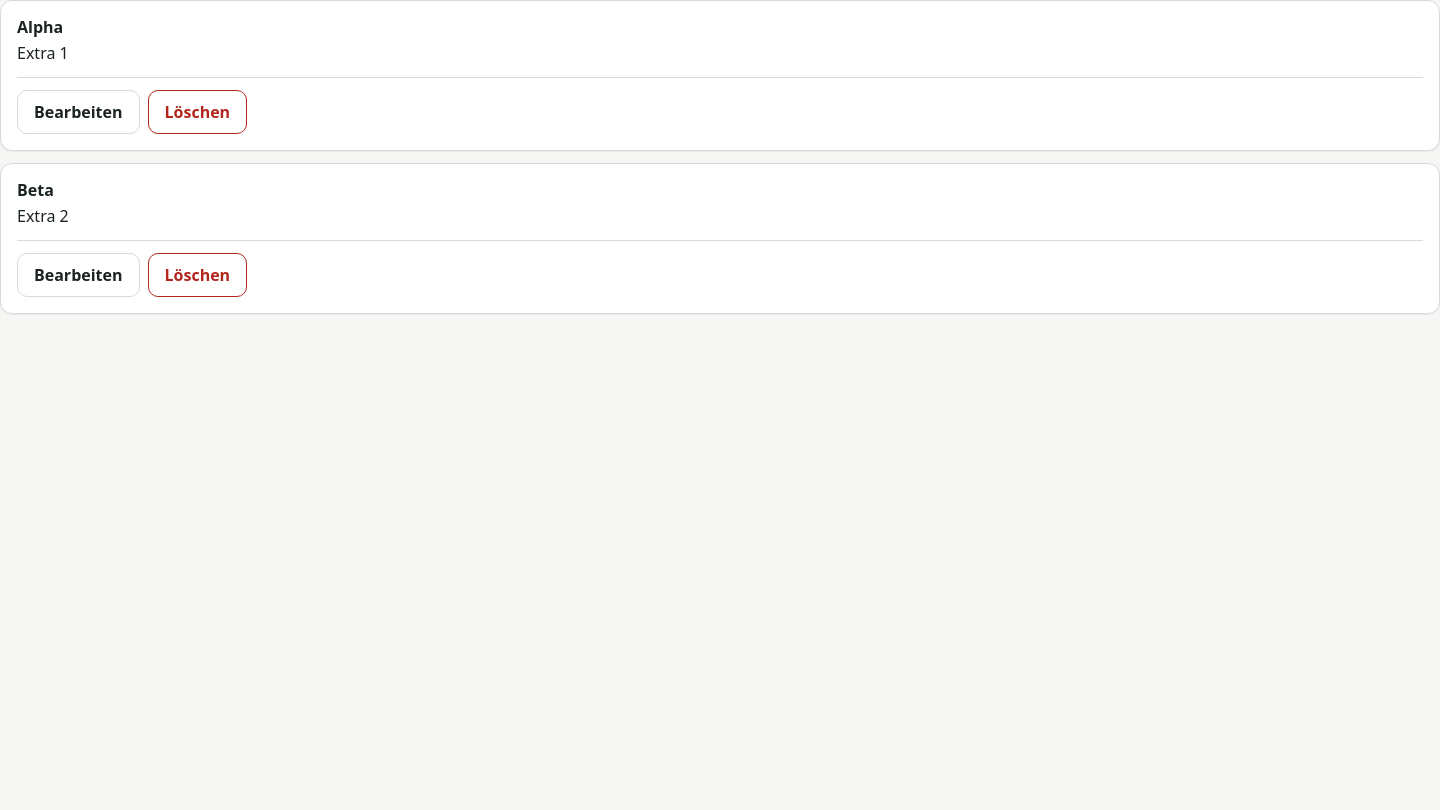
Test: ResourceList › löscht erst nach Rückfrage
This screenshot has width=1440, height=810.
Click the button with aria-label "Beta löschen" at (197, 275), box x1=148 y1=253 x2=247 y2=297
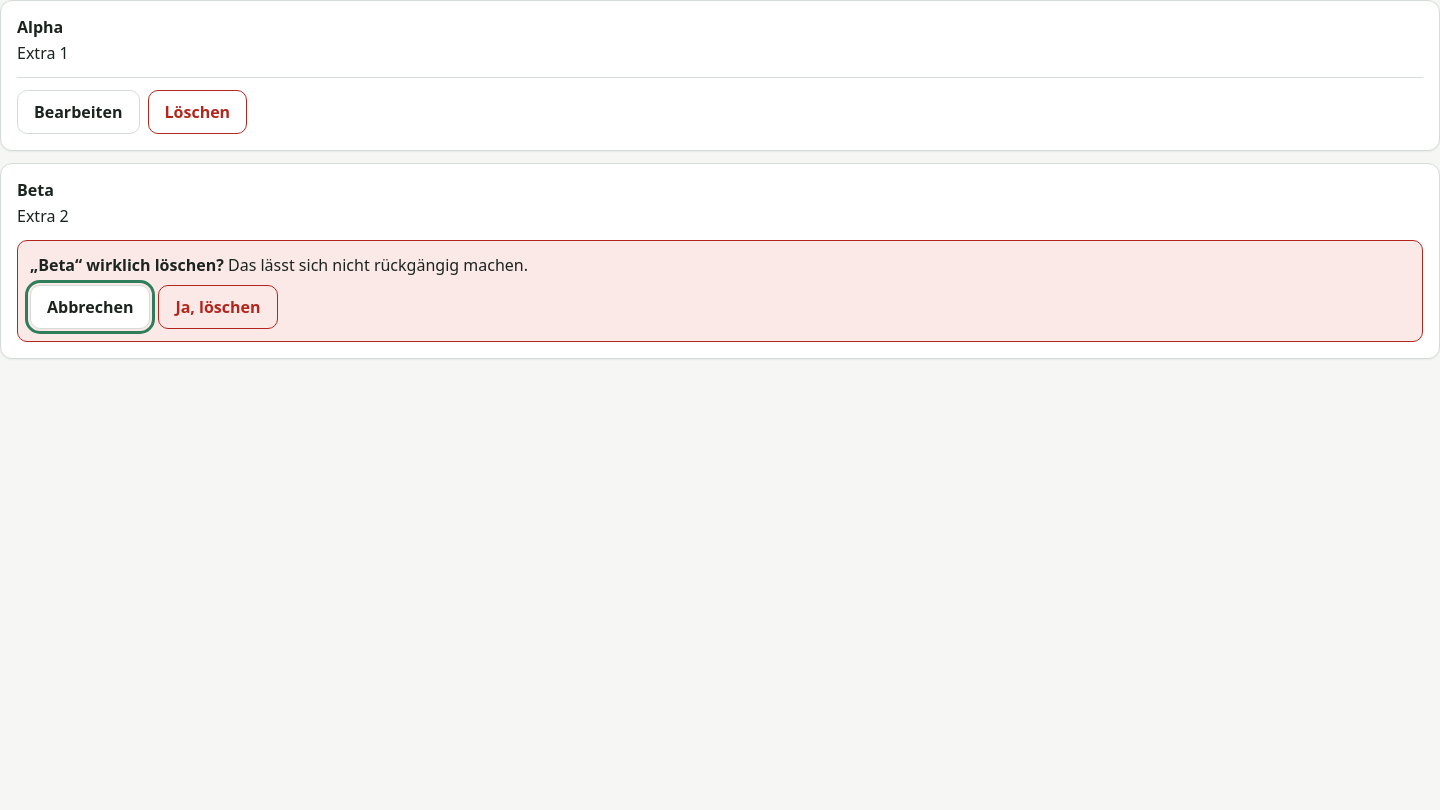
Result: the dialog shows "„Beta“ wirklich löschen?" at x1=17 y1=240 x2=1423 y2=342
Click the button "Abbrechen" at (90, 307), box x1=30 y1=285 x2=150 y2=329
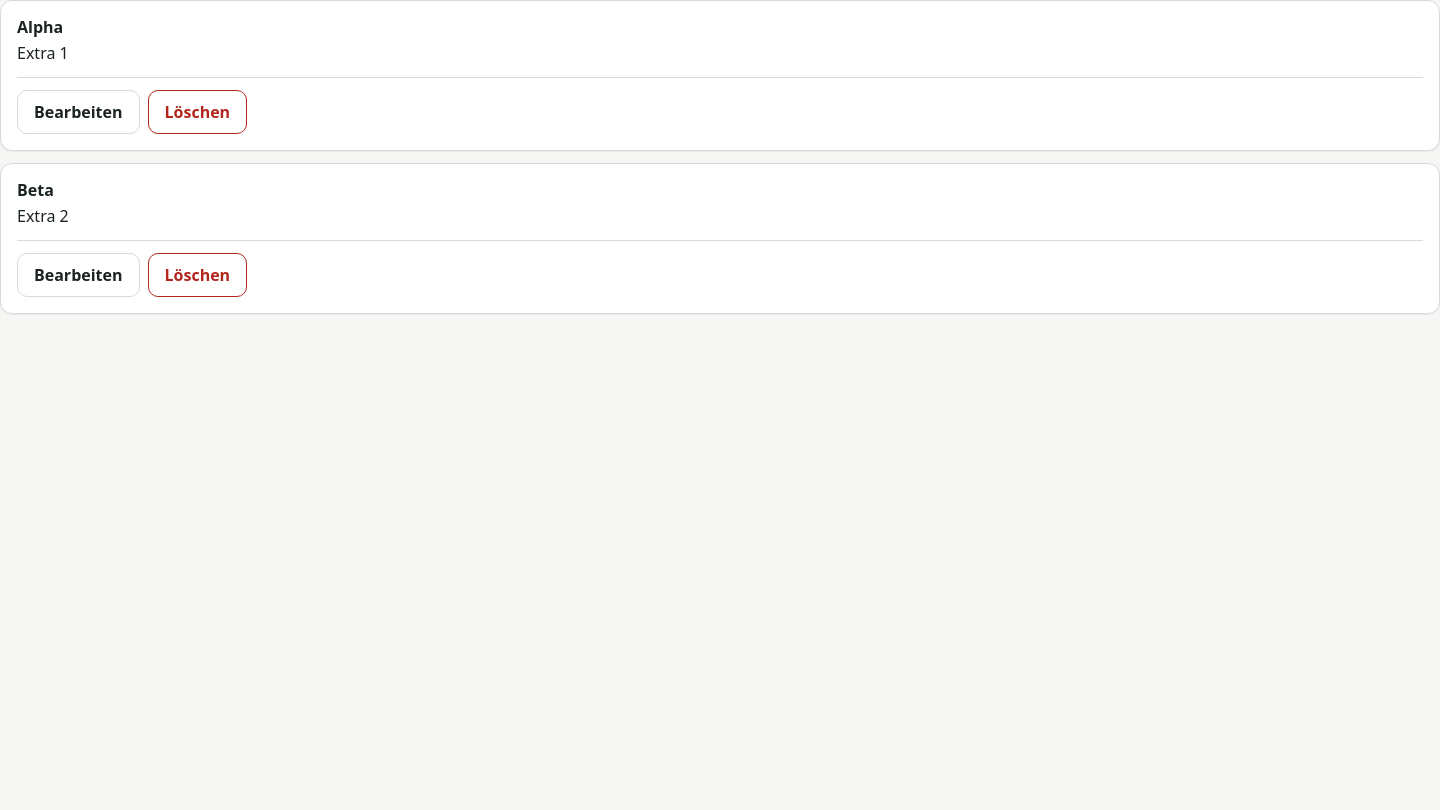
Result: the dialog is gone
Click the button with aria-label "Beta löschen" at (197, 275), box x1=148 y1=253 x2=247 y2=297
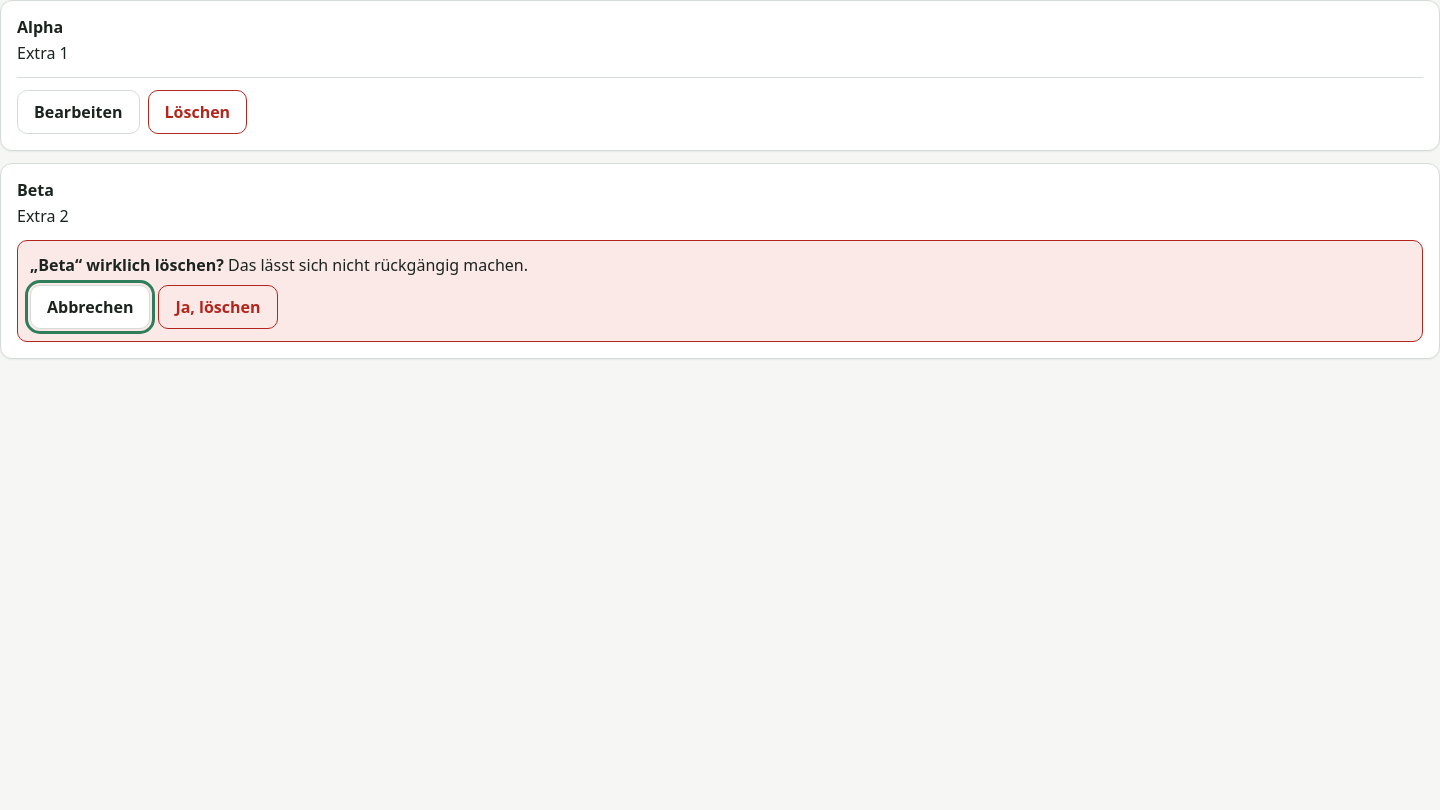
Click the button "Ja, löschen" at (218, 307), box x1=158 y1=285 x2=278 y2=329
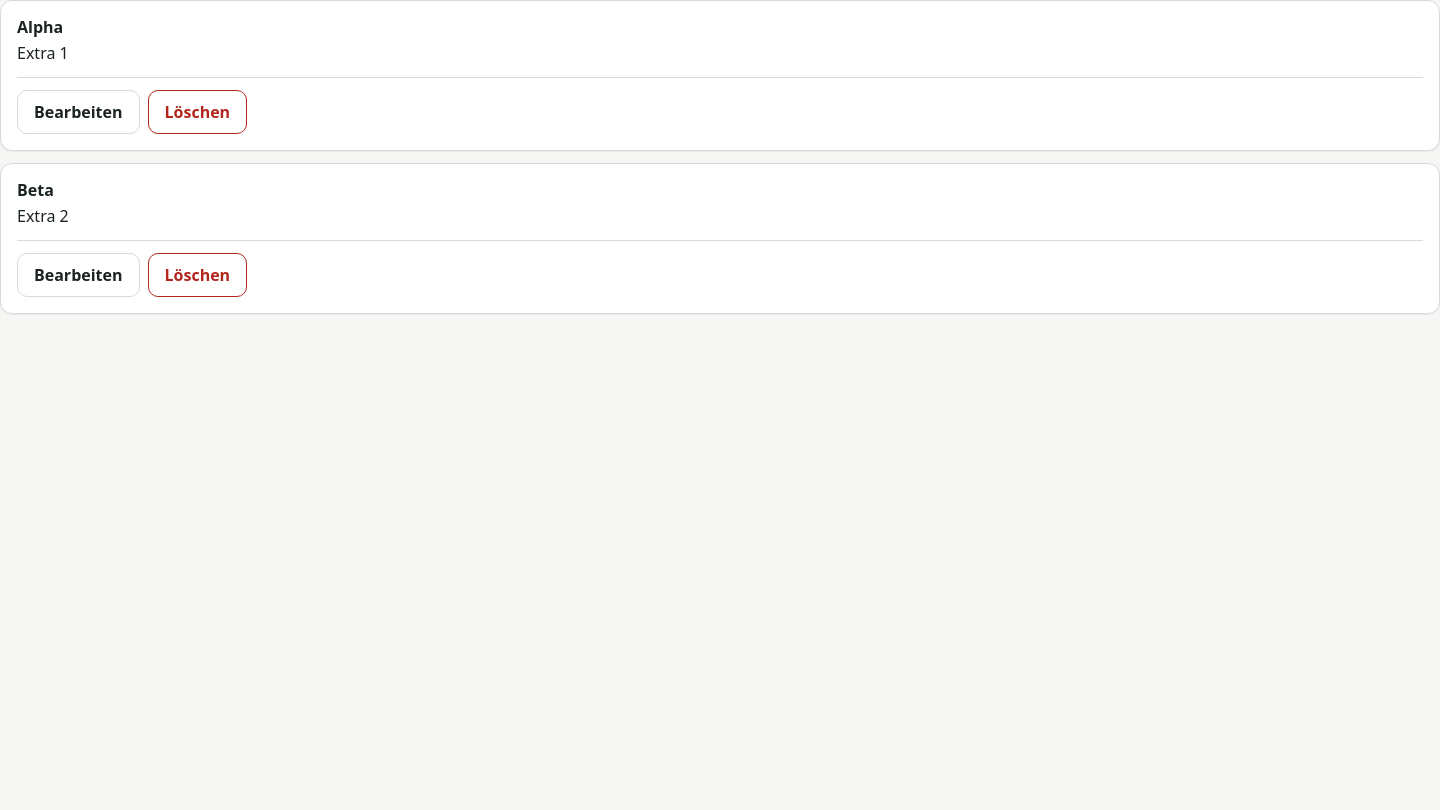
Result: the dialog is gone
